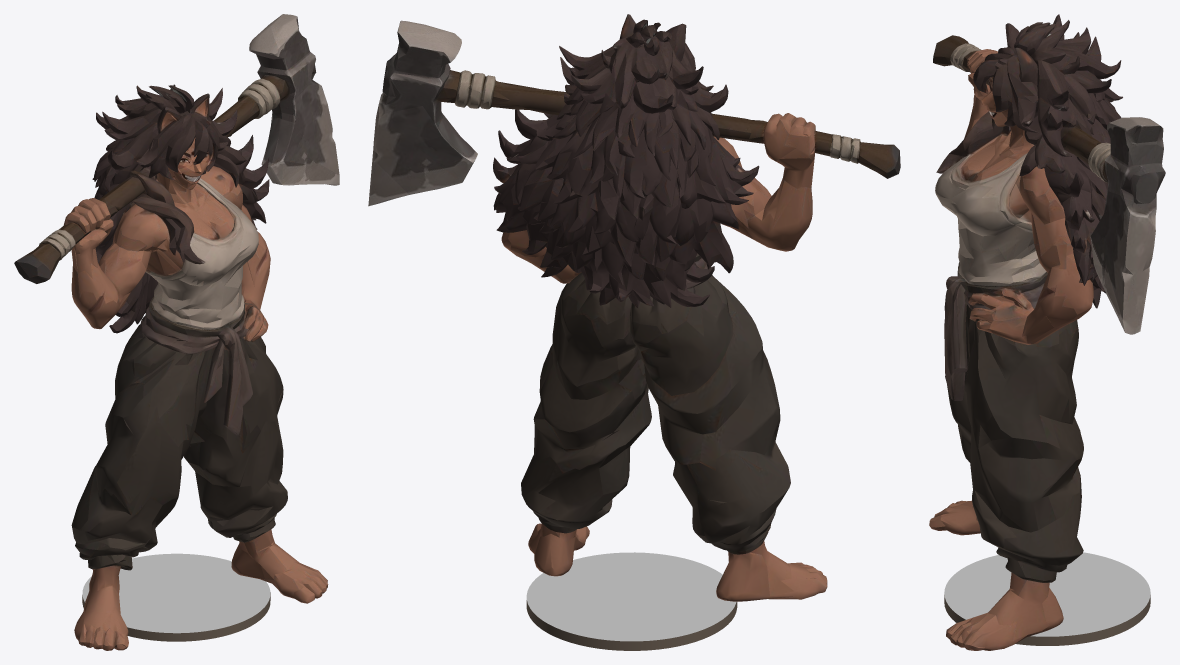
The model's file is pc_mellanee.glb.
3 renders of one model, left to right at view 1: azimuth 30°, elevation 25°; view 2: azimuth 150°, elevation 25°; view 3: azimuth 270°, elevation 25°, orthographic. The views are drawn at different scales.
Visible parts, largest first — view 1: Mellanee; view 2: Mellanee; view 3: Mellanee.
Part boxes in pixels (x1,y1,x2,y2): Mellanee: [14, 14, 339, 650]; Mellanee: [368, 14, 900, 650]; Mellanee: [929, 14, 1165, 650].
Bounding box in the file's own units: 1.49 × 1.86 × 0.6981.
Materials: 3 (1 with a texture image).
